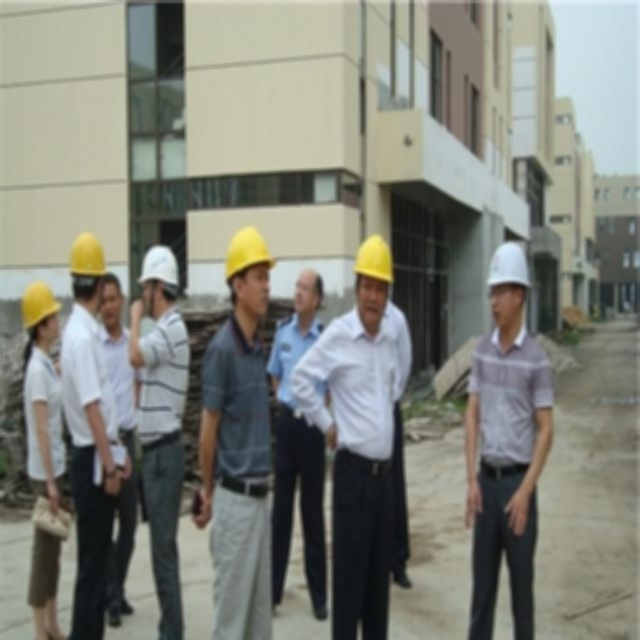Con_Casco: (225, 221, 271, 322)
Sin_Chaleco: (468, 330, 545, 479), (328, 320, 397, 456)
